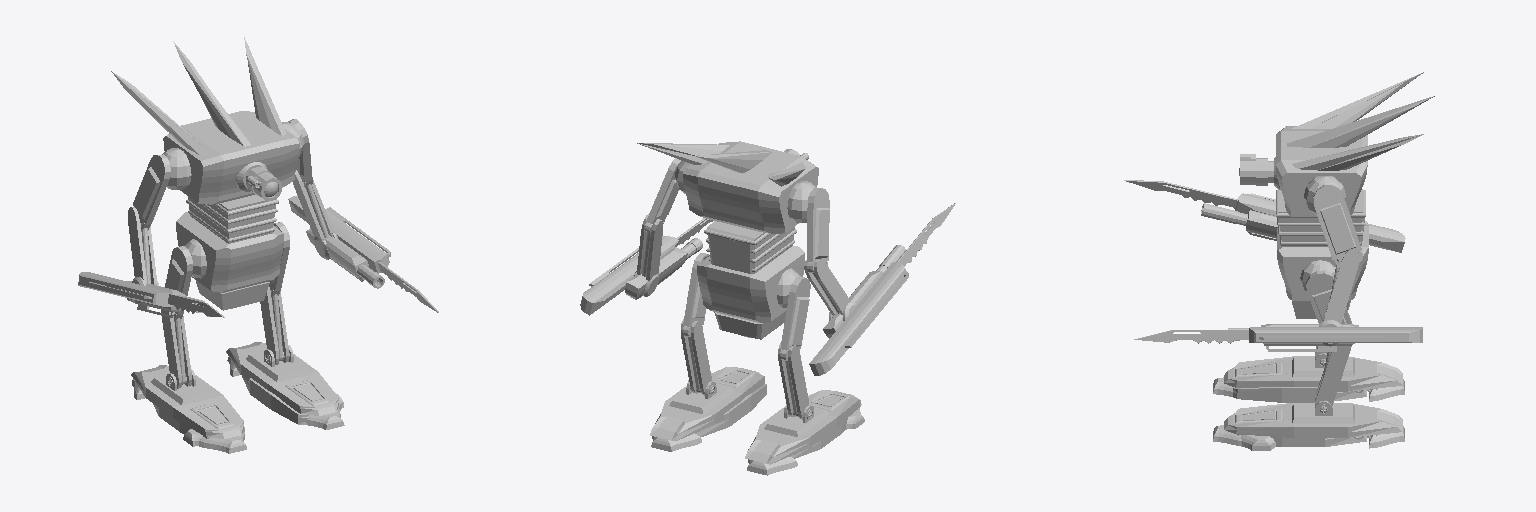
The model's file is robot.obj.
3 renders of one model, left to right at view 1: azimuth 30°, elevation 25°; view 2: azimuth 150°, elevation 25°; view 3: azimuth 270°, elevation 25°, orthographic.
Parts seen in each view (by area): view 1: Rectangle025, Rectangle018, Box006, Box003, Box002, Rectangle030, Rectangle034, Pyramid003, Pyramid001, Pyramid002, Box007, Rectangle029 (+16 smaller); view 2: Rectangle025, Rectangle018, Box006, Rectangle034, Box003, Box002, Rectangle030, Box007, Pyramid001, Rectangle029, Pyramid003, Rectangle006 (+17 smaller); view 3: Rectangle025, Box002, Box003, Rectangle030, Rectangle018, Box006, Pyramid003, Pyramid002, Pyramid001, Rectangle034, Box004, Cylinder038 (+12 smaller).
Part boxes in pixels (x1,y1,x2,y2): Rectangle025: (163,111,299,204); Rectangle018: (176,212,283,292); Box006: (186,195,278,243); Box003: (131,365,243,438); Box002: (226,342,338,415); Rectangle030: (288,195,390,273); Rectangle034: (78,272,172,306); Pyramid003: (173,41,250,146); Pyramid001: (244,37,285,136); Pyramid002: (111,71,210,154); Box007: (196,280,269,310); Rectangle029: (306,228,368,281); Rectangle025: (683,141,818,233); Rectangle018: (697,246,804,322); Box006: (704,221,796,273); Rectangle034: (809,262,908,375); Box003: (745,390,859,464); Box002: (650,367,764,440); Rectangle030: (580,236,678,315); Box007: (714,310,786,339); Pyramid001: (637,143,729,164); Rectangle029: (625,247,687,299); Pyramid003: (696,150,771,173); Rectangle006: (669,383,734,413); Rectangle025: (1276,126,1367,216); Box002: (1224,403,1402,437); Box003: (1224,356,1402,391); Rectangle030: (1249,327,1422,342); Rectangle018: (1277,224,1368,300); Box006: (1276,189,1365,246); Pyramid003: (1287,96,1434,147); Pyramid002: (1292,72,1423,128); Pyramid001: (1292,134,1423,170); Rectangle034: (1234,193,1405,252); Box004: (1233,387,1366,402); Cylinder038: (1324,248,1359,323).
Size of the model in its own units: 135 by 162 by 145.